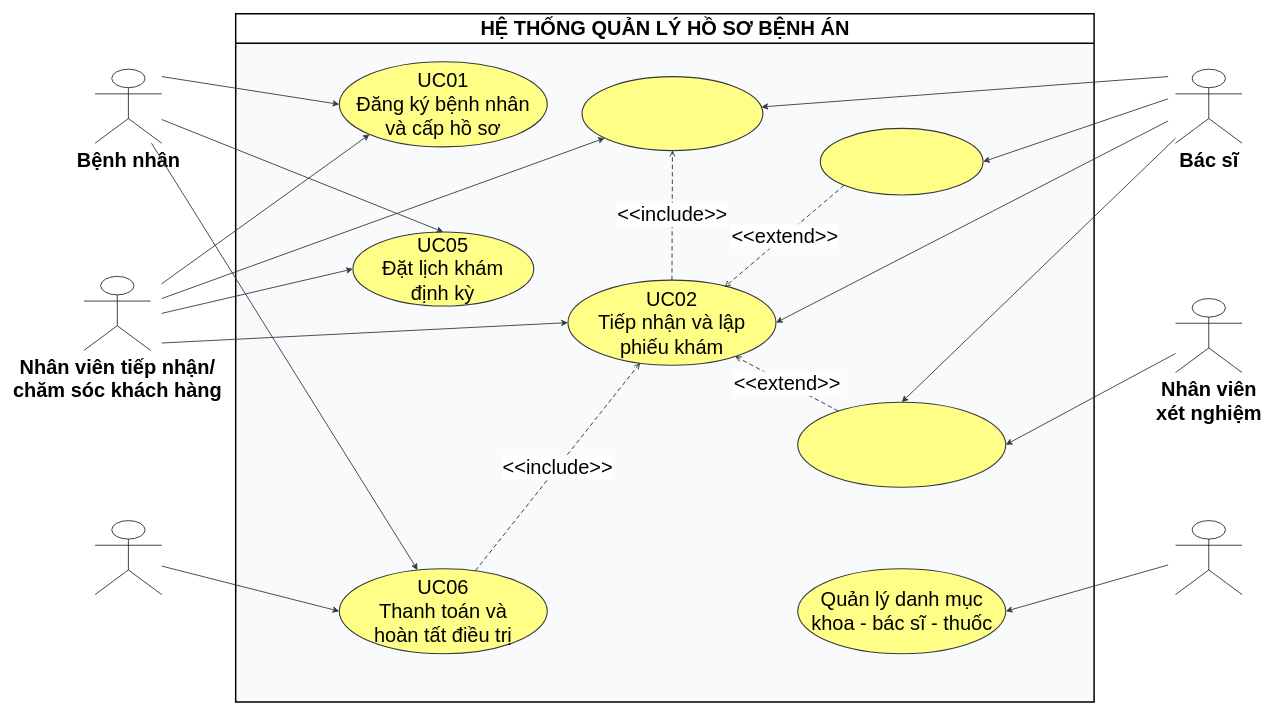
The diagram is 1282 pixels wide and 715 high, and some of its shapes have lost their labels. The shapes that lost their labels are listed below. From the top down, each one's box as (x1, y1, x2, y2) in pixels, then its label:
(581, 76, 763, 151): UC07 Tra cứu lịch sử bệnh án
(819, 128, 983, 195): UC04 Lập toa thuốc
(797, 401, 1006, 488): UC03 Chỉ định và trả kết quả xét nghiệm
(94, 520, 162, 595): Nhân viên thu viện phí
(1175, 520, 1242, 595): Quản trị viên
